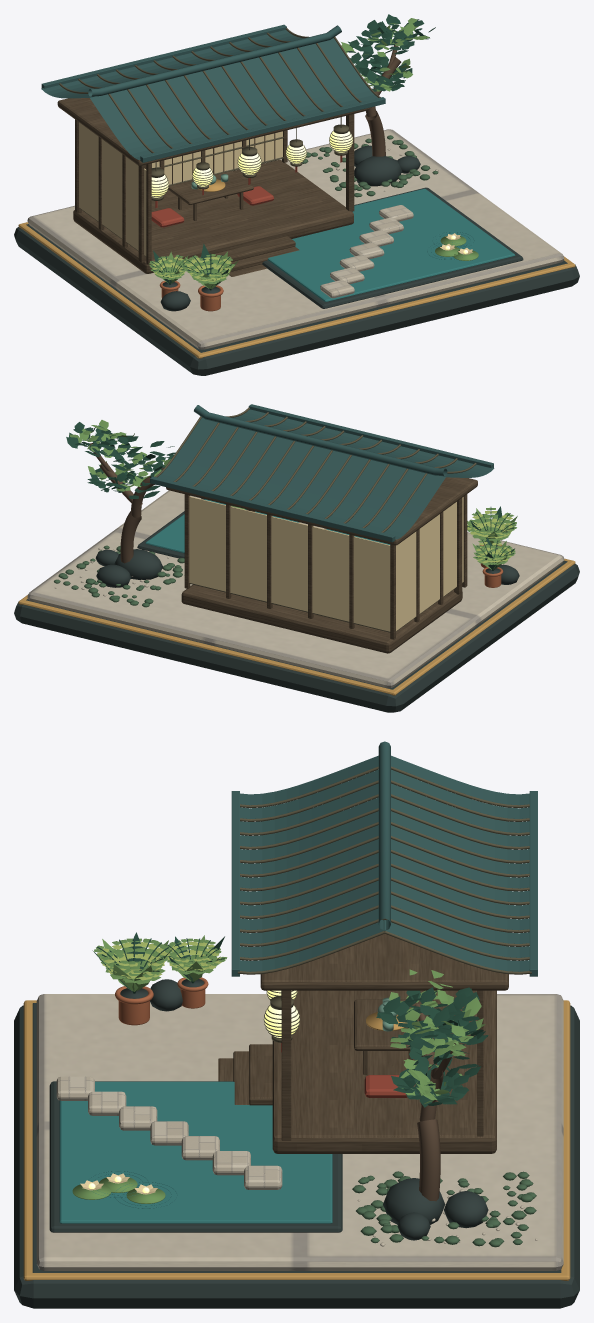
3 renders of one model, top to bottom at view 1: azimuth 30°, elevation 25°; view 2: azimuth 150°, elevation 25°; view 3: azimuth 270°, elevation 25°, orthographic. The views are drawn at different scales.
Visible parts, largest first — view 1: runtime_Dark island, runtime_Courtyard stone; view 2: runtime_Dark island, runtime_Courtyard stone; view 3: runtime_Dark island, runtime_Courtyard stone.
Boxes of the visible parts, bbox=[...] form: runtime_Dark island: bbox=[14, 14, 579, 375]; runtime_Courtyard stone: bbox=[27, 98, 564, 349]; runtime_Dark island: bbox=[14, 404, 579, 712]; runtime_Courtyard stone: bbox=[27, 477, 564, 688]; runtime_Dark island: bbox=[14, 741, 579, 1308]; runtime_Courtyard stone: bbox=[36, 819, 563, 1270].
Size of the model in its own units: 10.4 by 5.2 by 8.7.
Materials: 17 (2 with a texture image).
